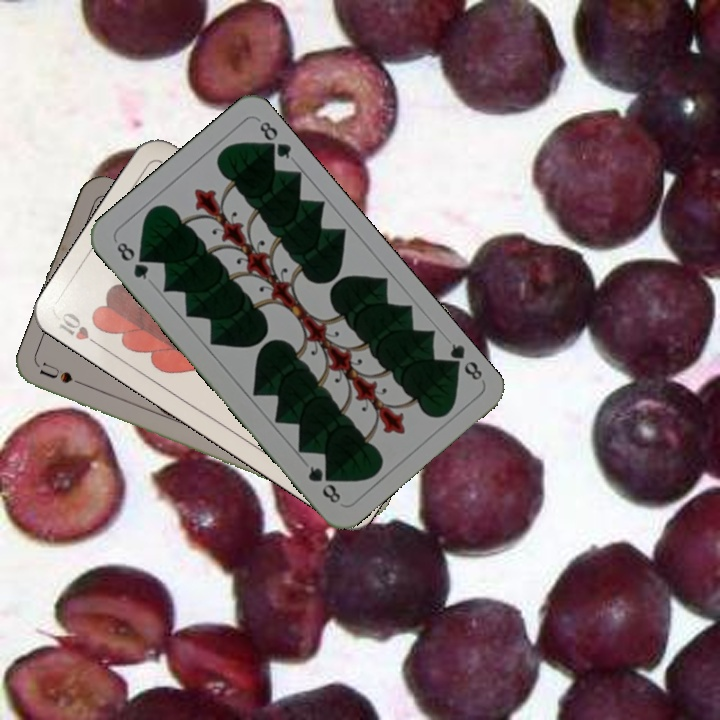G8: (440, 339, 485, 383), (112, 236, 152, 283)
H10: (54, 308, 107, 353)
SU: (36, 360, 95, 392)
